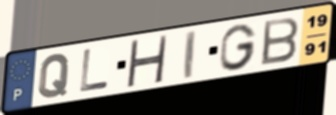B: (260, 15, 302, 67)
G: (218, 22, 259, 72)
H: (124, 34, 170, 88)
I: (183, 28, 198, 81)
L: (78, 47, 111, 94)
Q: (36, 52, 73, 100)
